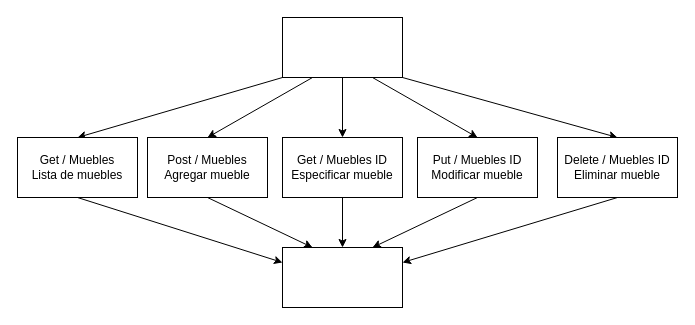
This 695x325 diagram has some shape labels left out. Here are the shapes that lost their labels. From the top down, the box of each, then its label:
(282, 16, 402, 78): Cliente
(282, 246, 402, 308): Base de datos
